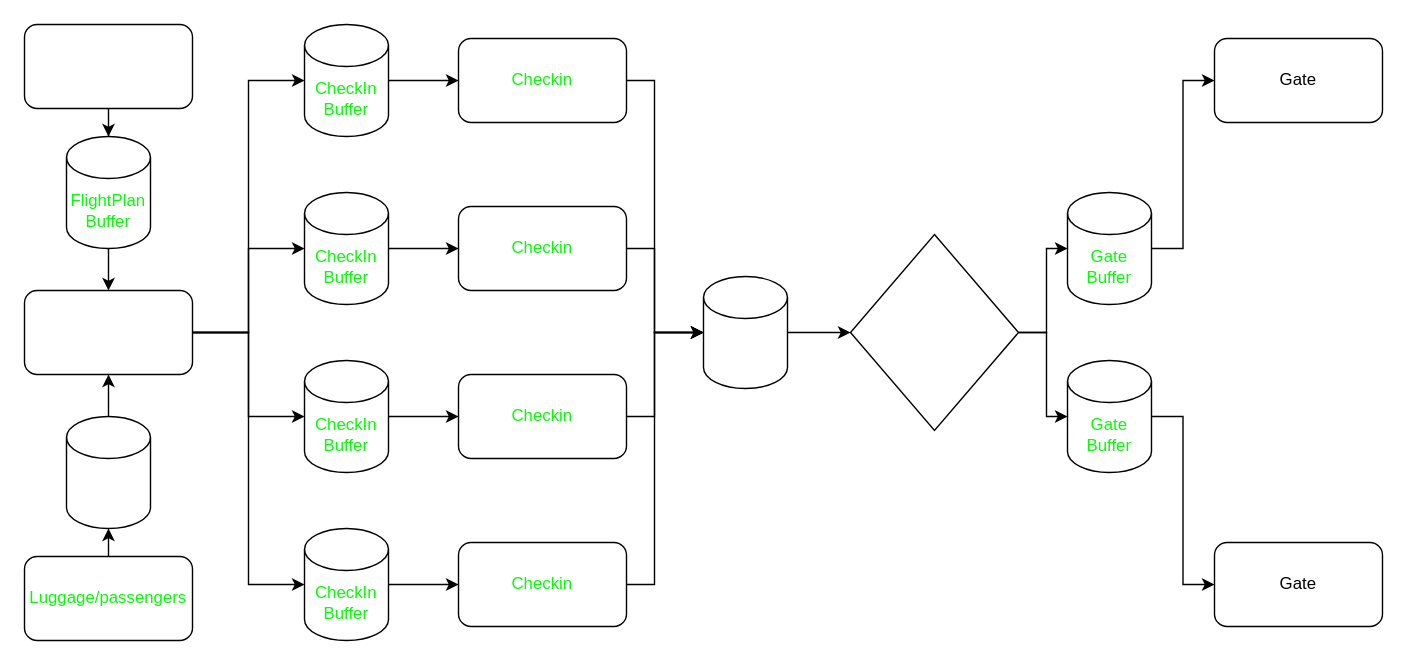
Image size: 1407x665. Some labels were removed from this diagram. The centre of each missing label's shape, as x and y in pixels:
"Flight plan" goes at point 107,65.
"Luggage Buffer" goes at point 107,471.
"Sorting" goes at point 933,331.
"Sorting Buffer" goes at point 745,331.
"TheHall/Splitter" goes at point 107,331.
